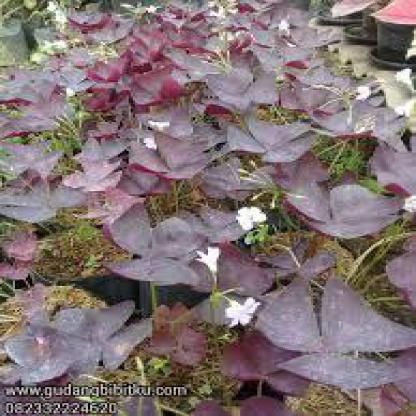Kupu-Kupu: (267, 286, 402, 379), (10, 314, 143, 361), (278, 184, 385, 234), (239, 126, 301, 162)
